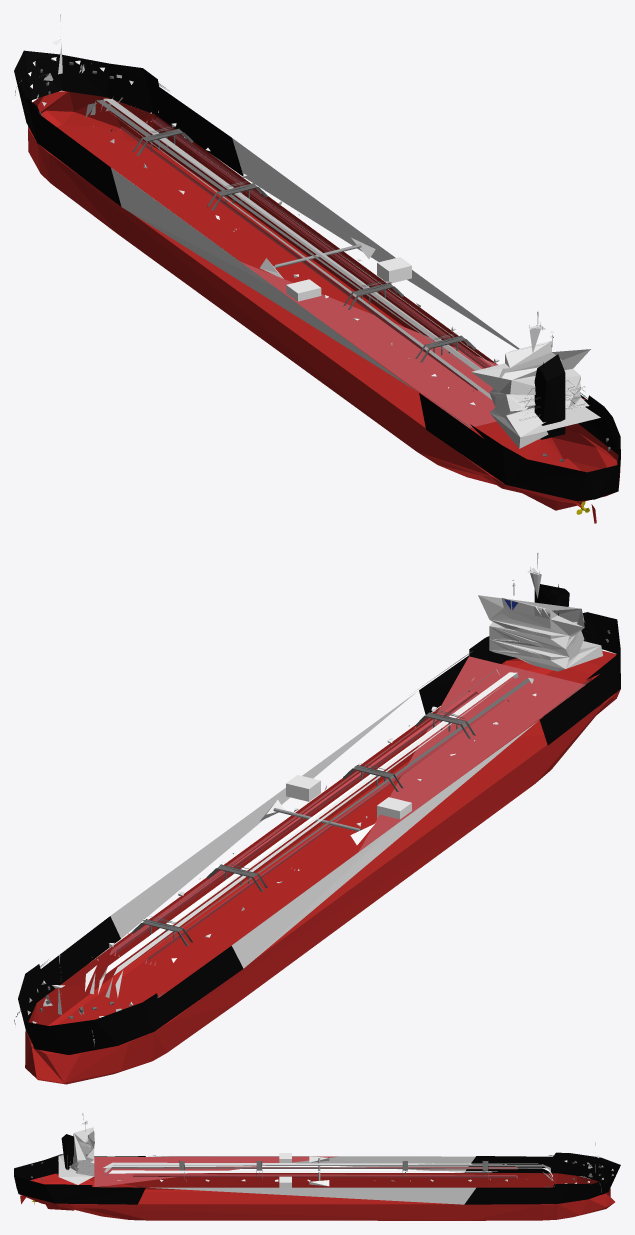
3 views of the same model, one above another, from view 1: azimuth 30°, elevation 25°; view 2: azimuth 150°, elevation 25°; view 3: azimuth 270°, elevation 25° (orthographic). The views are drawn at different scales.
Parts seen in each view (by area): view 1: Object_7, Object_5, Object_4, Object_6, Object_18, Object_12, Object_32; view 2: Object_7, Object_5, Object_4, Object_6, Object_18, Object_12, Object_32; view 3: Object_7, Object_5, Object_6, Object_4, Object_18, Object_12, Object_32, Object_34.
Part boxes in pixels (bbox=[...]): Object_7: bbox=[28, 91, 620, 523]; Object_5: bbox=[14, 50, 620, 501]; Object_4: bbox=[110, 118, 585, 428]; Object_6: bbox=[111, 138, 519, 391]; Object_18: bbox=[85, 97, 493, 399]; Object_12: bbox=[472, 311, 600, 448]; Object_32: bbox=[16, 62, 610, 461]; Object_7: bbox=[25, 650, 620, 1084]; Object_5: bbox=[18, 584, 620, 1054]; Object_4: bbox=[109, 656, 585, 965]; Object_6: bbox=[110, 691, 537, 968]; Object_18: bbox=[85, 669, 533, 997]; Object_12: bbox=[478, 552, 602, 671]; Object_32: bbox=[16, 583, 610, 1036]; Object_7: bbox=[20, 1173, 614, 1220]; Object_5: bbox=[14, 1134, 620, 1204]; Object_6: bbox=[148, 1156, 475, 1204]; Object_4: bbox=[94, 1156, 517, 1186]; Object_18: bbox=[103, 1153, 553, 1187]; Object_12: bbox=[58, 1113, 94, 1184]; Object_32: bbox=[30, 1135, 601, 1187]; Object_34: bbox=[117, 1141, 613, 1183].
Size of the model in its own units: 20.06 by 27.15 by 161.
